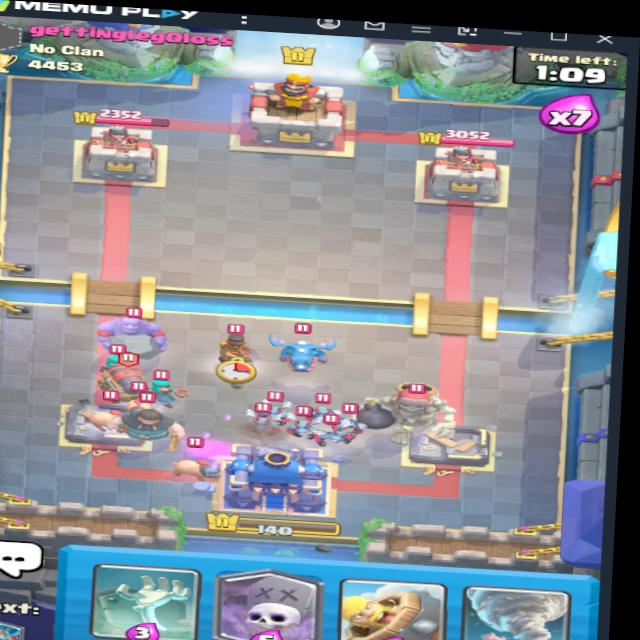bowler: (90, 294, 184, 364)
cannon-cart: (106, 354, 156, 401)
electro-dragon: (260, 319, 344, 378)
giant-skeleton: (361, 366, 470, 445)
minion: (246, 397, 287, 428), (286, 409, 325, 439), (334, 404, 369, 437), (322, 417, 354, 448), (309, 390, 339, 422)
ram-rider: (208, 321, 259, 381)
rascal-boy: (111, 406, 188, 443)
rascal-girl: (144, 373, 187, 404), (90, 343, 131, 374)
royal-hogs: (72, 398, 130, 437), (178, 446, 227, 478), (120, 394, 167, 421)
